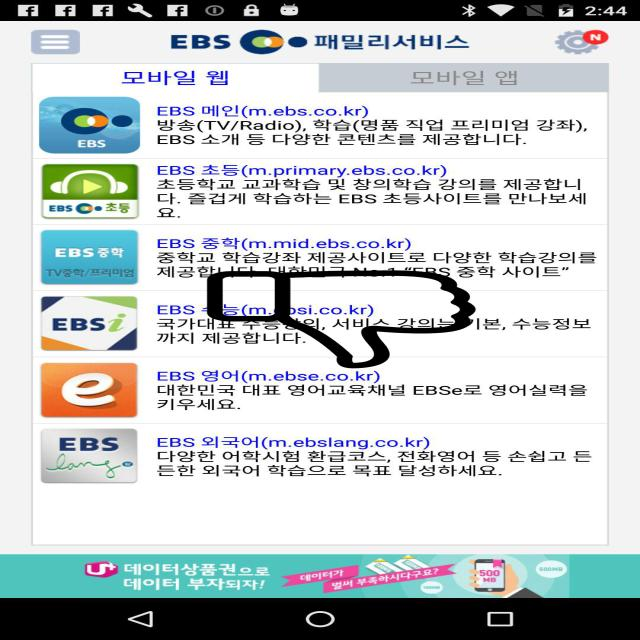obstruction: (203, 270, 480, 368)
